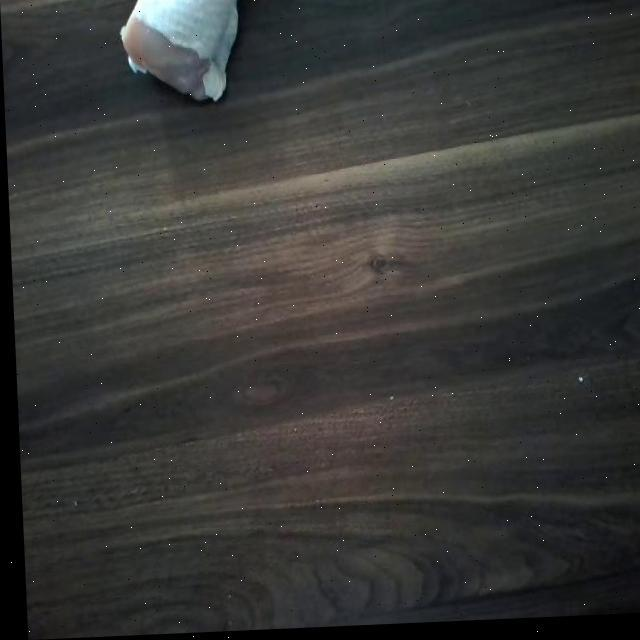leg: (116, 0, 256, 112)
